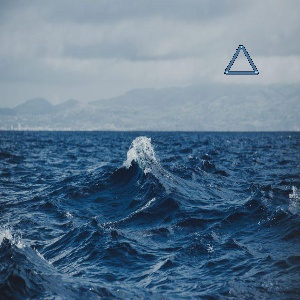triangle: (221, 41, 263, 79)
